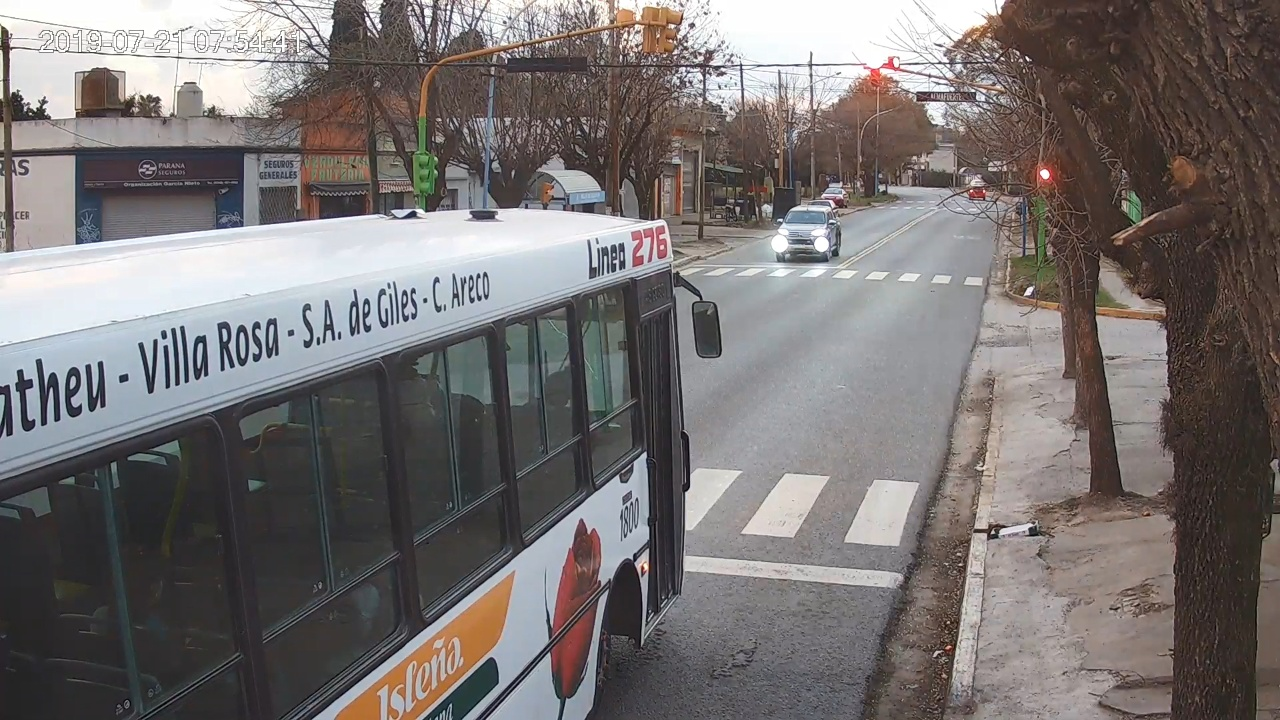bus: (6, 207, 723, 720)
